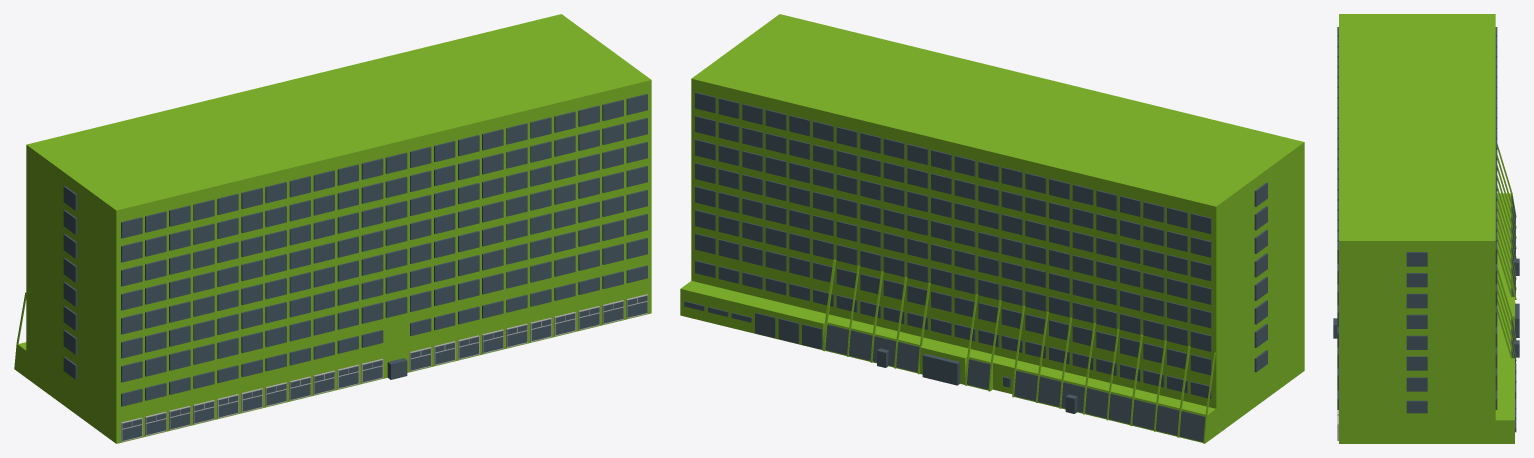
The picture shows the model from 3 angles, left to right: view 1: azimuth 30°, elevation 25°; view 2: azimuth 150°, elevation 25°; view 3: azimuth 270°, elevation 25°; orthographic projection. The views are drawn at different scales.
Parts seen in each view (by area): view 1: A; view 2: A, Entrance_Main; view 3: A.
Part boxes in pixels (box(x1,y1,x2,y2)): A: box(14, 14, 651, 443); A: box(680, 14, 1304, 443); Entrance_Main: box(922, 353, 960, 385); A: box(1337, 14, 1516, 443).
Size of the model in its own units: 72.43 by 30 by 25.
